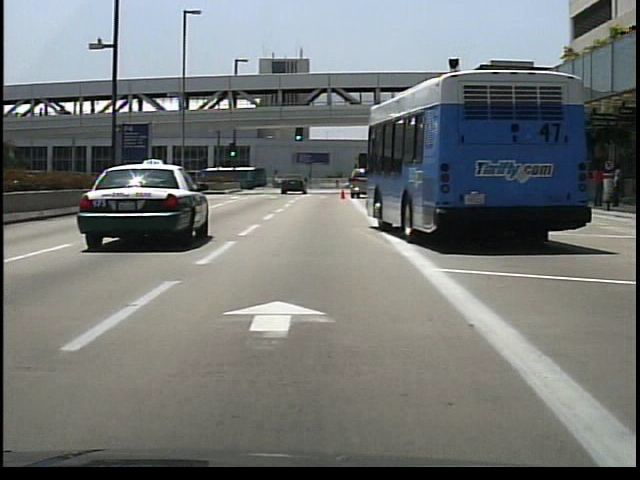person: (611, 160, 624, 210)
